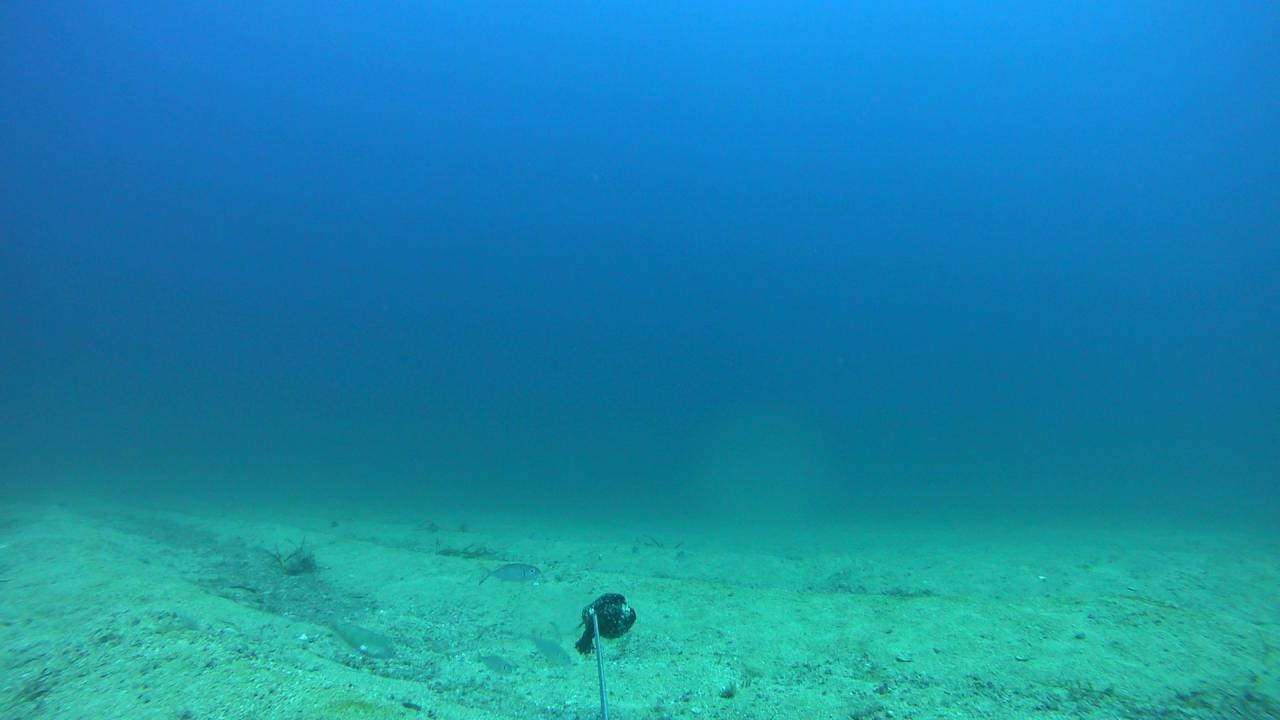pagellus: (519, 629, 574, 672), (477, 562, 542, 584), (473, 653, 515, 677)
raor: (325, 616, 399, 662)
